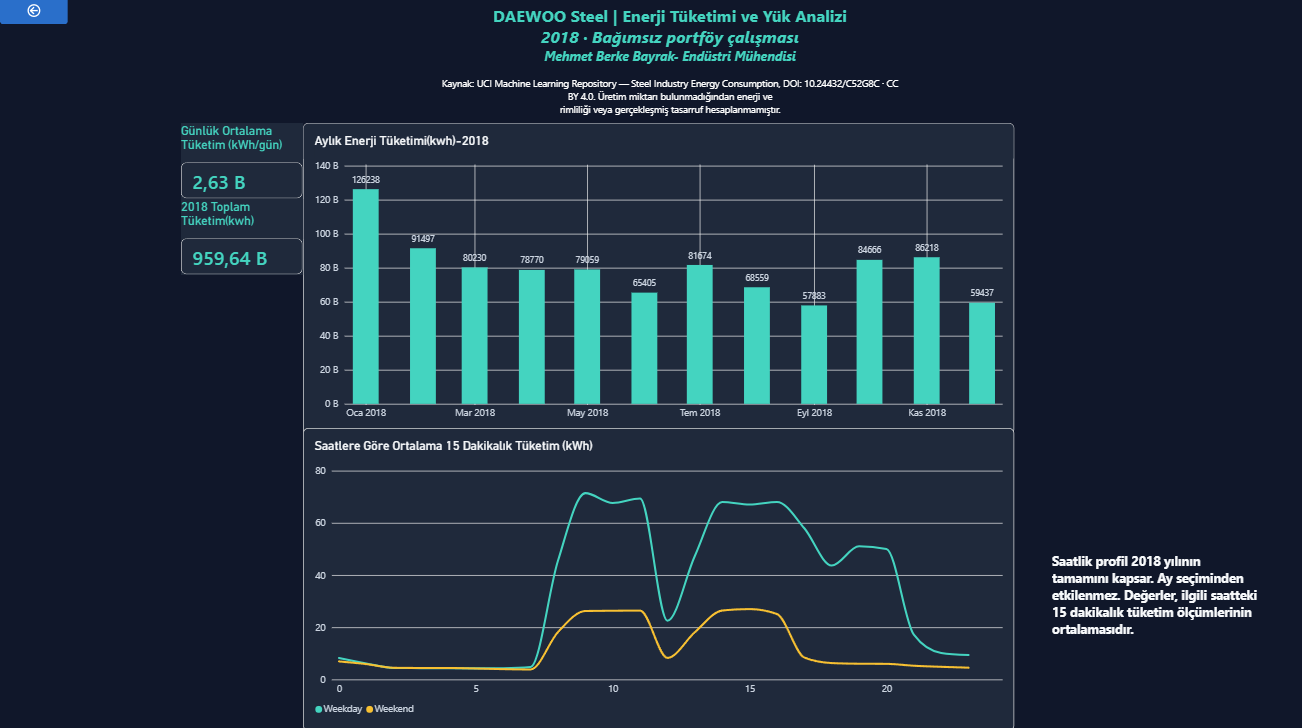

The dashboard page shown, as its layout file describes it:
{"tool":"powerbi","page":{"name":"Genel Bakış","canvas":[1920,1080],"ordinal":0},"visuals":[{"type":"clusteredColumnChart","title":"Aylık Enerji Tüketimi(kwh)-2018","fields":{"Category":["public rapor_aylik_tuketim.ay"],"Y":["Sum(public rapor_aylik_tuketim.toplam_kwh)"]},"box":[446.9,186.2,1048.1,458.9],"z":0},{"type":"actionButton","box":[0,0,100,40],"z":1},{"type":"cardVisual","title":"2018 Toplam Tüketim(kwh)","fields":{"Data":["Sum(public rapor_aylik_tuketim.toplam_kwh)"]},"box":[266.7,297.7,179.8,112],"z":2},{"type":"lineChart","title":"Saatlere Göre Ortalama 15 Dakikalık Tüketim (kWh)","fields":{"Category":["public rapor_saatlik_tuketim.olcum_saati"],"Series":["public rapor_saatlik_tuketim.hafta_durumu"],"Y":["Avg(public rapor_saatlik_tuketim.ortalama_15dk_kwh)"]},"box":[446.9,634.4,1048.1,445.6],"z":3},{"type":"cardVisual","title":"Günlük Ortalama Tüketim (kWh/gün)","fields":{"Data":["public rapor_aylik_tuketim.Günlük Ortalama Tüketim"]},"box":[266.7,185.7,179.8,112],"z":4},{"type":"textbox","box":[1550,800,307.2,167.6],"z":5},{"type":"textbox","box":[650,11,674.9,213.7],"z":6}]}

Visuals, with their boxes in screenshot pixels (x1, y1, x2, y2), scaled from the page's 1920x1080 canvas onto the 1302x728 screenshot:
"Aylık Enerji Tüketimi(kwh)-2018" clusteredColumnChart: 303, 126, 1014, 435
actionButton: 0, 0, 68, 27
"2018 Toplam Tüketim(kwh)" cardVisual: 181, 201, 303, 276
"Saatlere Göre Ortalama 15 Dakikalık Tüketim (kWh)" lineChart: 303, 428, 1014, 727
"Günlük Ortalama Tüketim (kWh/gün)" cardVisual: 181, 125, 303, 201
textbox: 1051, 539, 1259, 652
textbox: 441, 7, 898, 151
